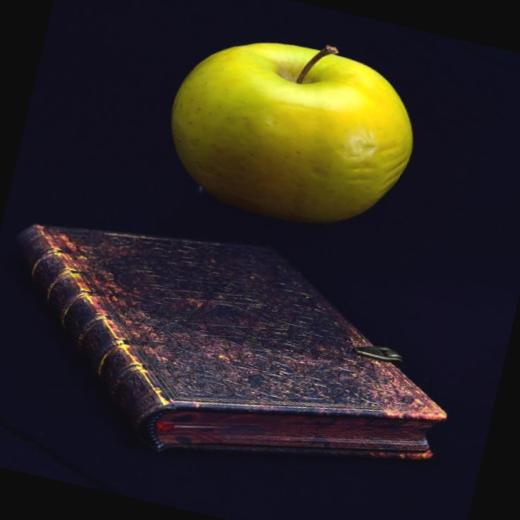Apple: (149, 6, 436, 251)
